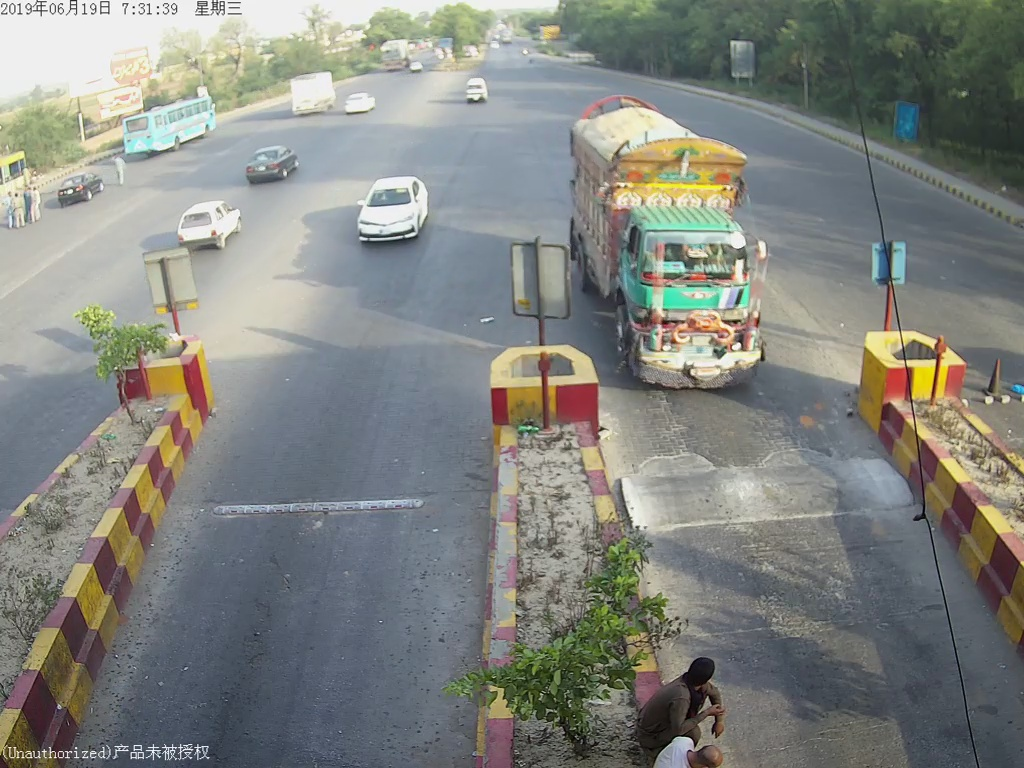Cat-1: (354, 173, 434, 254)
Cat-4: (593, 122, 776, 393)
